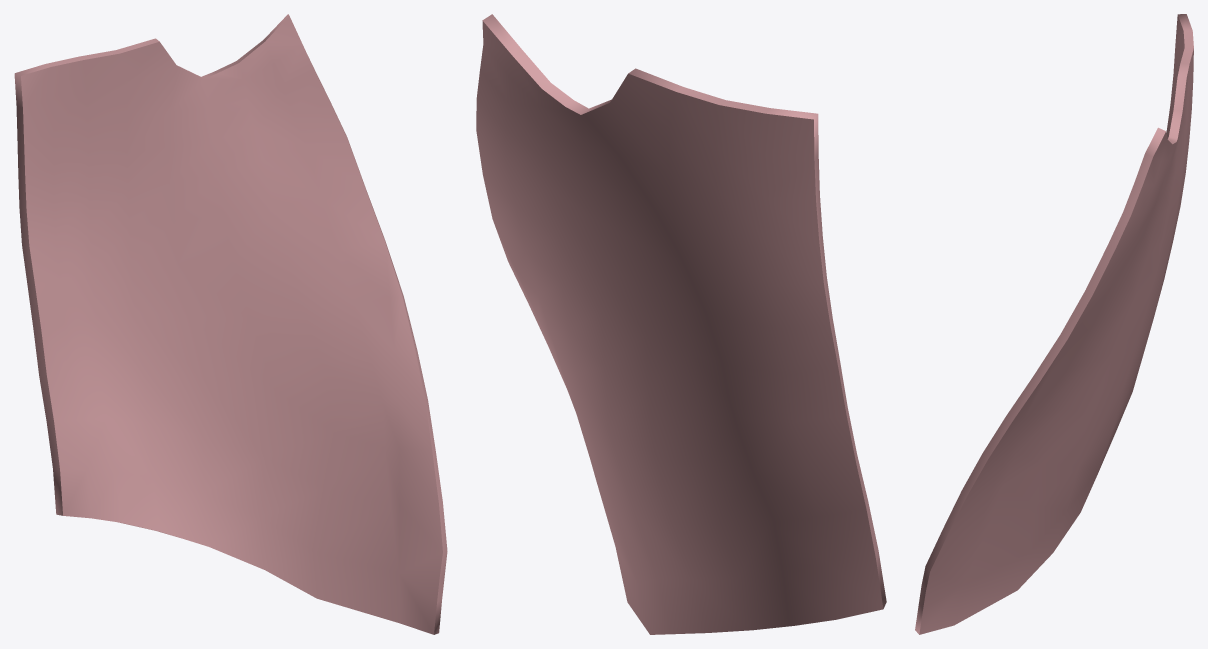
3 renders of one model, left to right at view 1: azimuth 30°, elevation 25°; view 2: azimuth 150°, elevation 25°; view 3: azimuth 270°, elevation 25°, orthographic. The views are drawn at different scales.
Visible parts, largest first — view 1: ZA_cf87493083b46636; view 2: ZA_cf87493083b46636; view 3: ZA_cf87493083b46636.
Part boxes in pixels (x1,y1,x2,y2): ZA_cf87493083b46636: (14,14,447,634); ZA_cf87493083b46636: (476,14,886,634); ZA_cf87493083b46636: (915,14,1193,634).
Bounding box in the file's own units: 0.1113 × 0.1782 × 0.0906.
